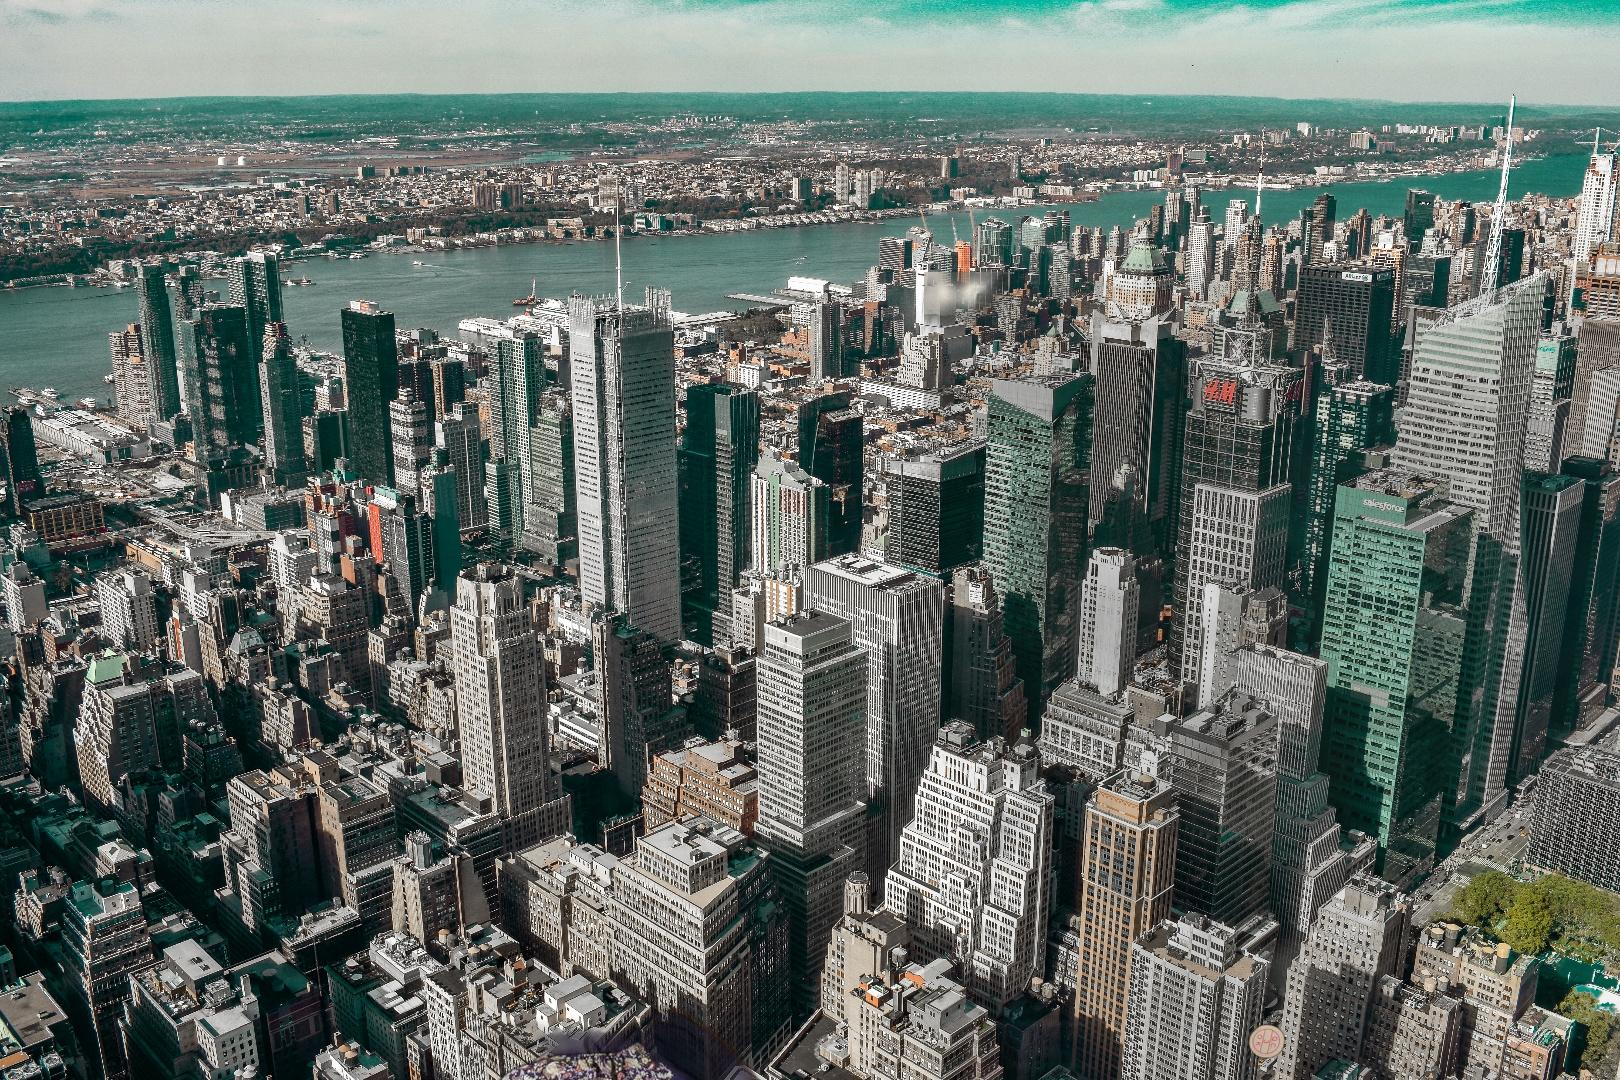clothes: (389, 941, 790, 1080)
trashbox-cardboard: (925, 272, 1620, 1080), (808, 931, 1290, 1080)
